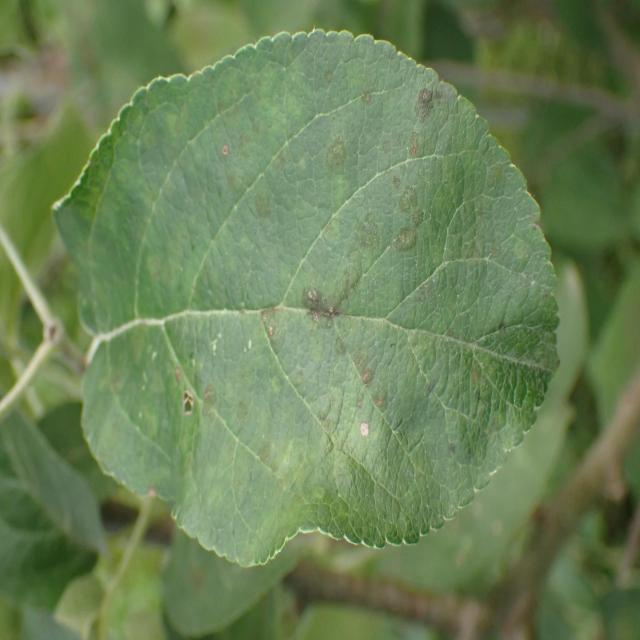scab: (103, 41, 550, 512)
